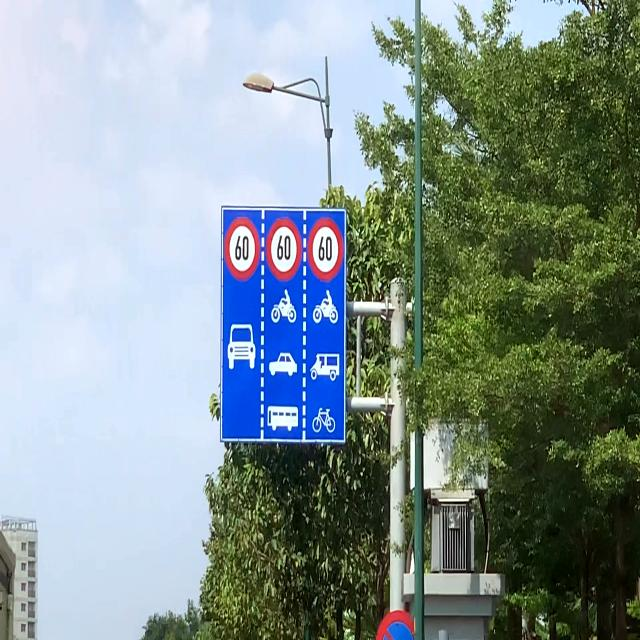P.127: (224, 216, 264, 282), (307, 220, 344, 287), (263, 215, 300, 280)
